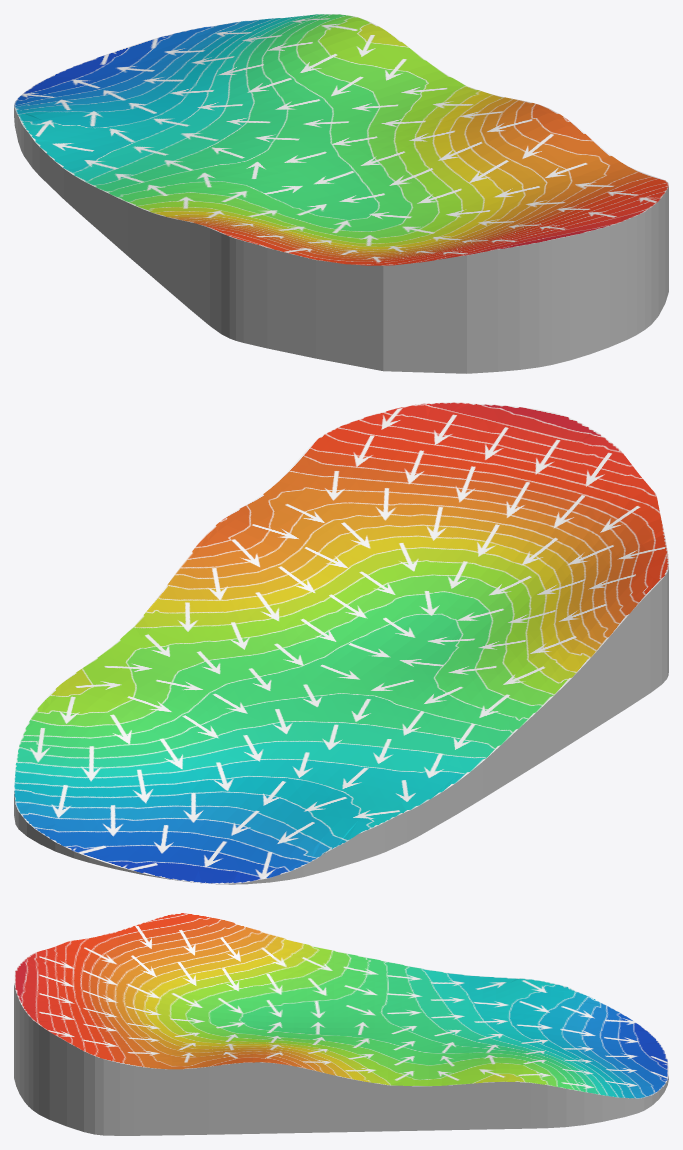
The picture shows the model from 3 angles, top to bottom: view 1: azimuth 30°, elevation 25°; view 2: azimuth 150°, elevation 25°; view 3: azimuth 270°, elevation 25°; orthographic projection. The views are drawn at different scales.
Bounding box in the file's own units: 3.96 × 1.22 × 7.54.
2 materials, 1 textured.
